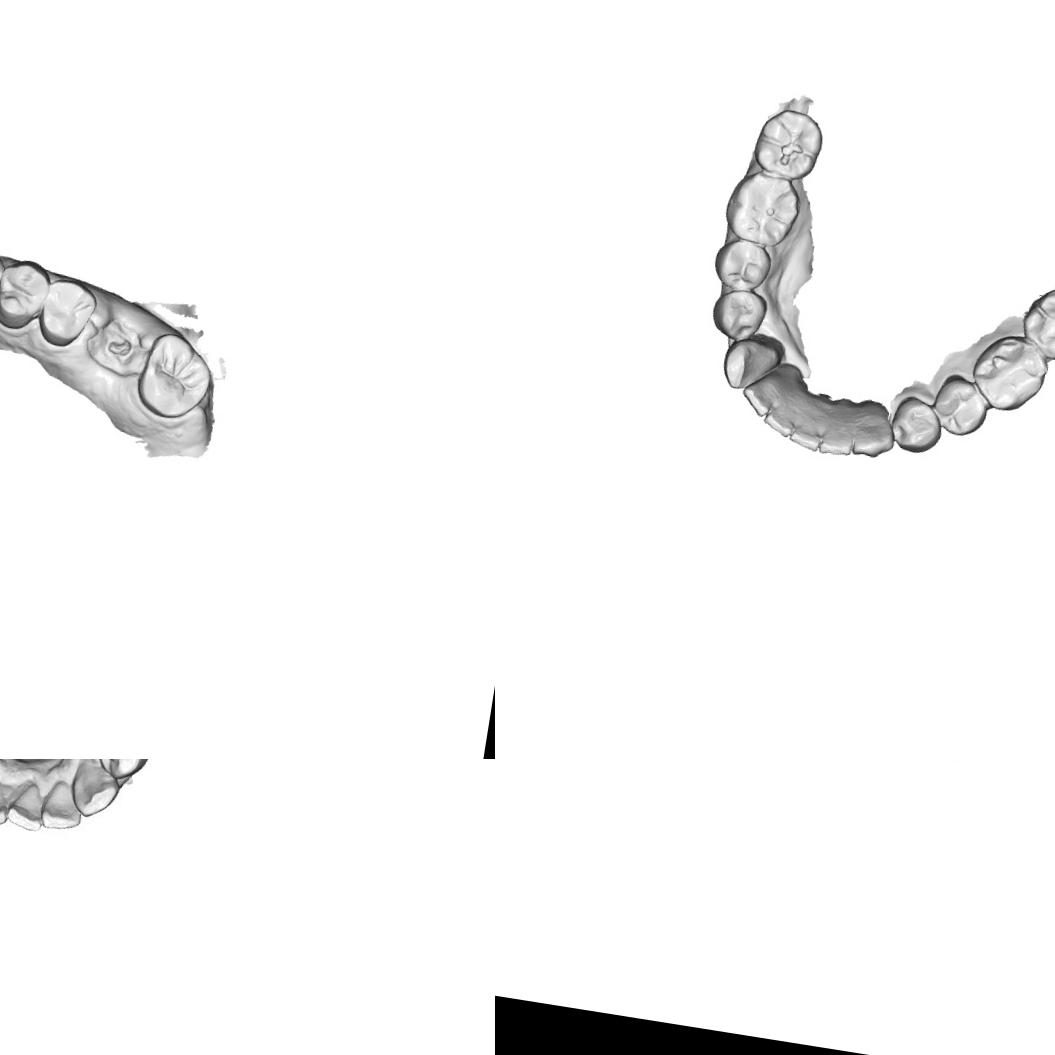canine: (718, 334, 784, 396), (72, 763, 124, 825), (850, 398, 900, 461)
incisor: (816, 396, 860, 458), (738, 371, 782, 420), (10, 783, 50, 834), (47, 782, 81, 829), (786, 412, 824, 454), (760, 400, 798, 440), (0, 785, 10, 837)
molar: (130, 326, 222, 426), (966, 329, 1053, 417), (720, 166, 805, 251), (748, 103, 828, 184), (1017, 282, 1055, 365)
premolar: (36, 273, 100, 353), (927, 372, 995, 440), (0, 254, 54, 336), (710, 234, 775, 295), (887, 392, 947, 456), (708, 285, 770, 346), (90, 759, 147, 778)
